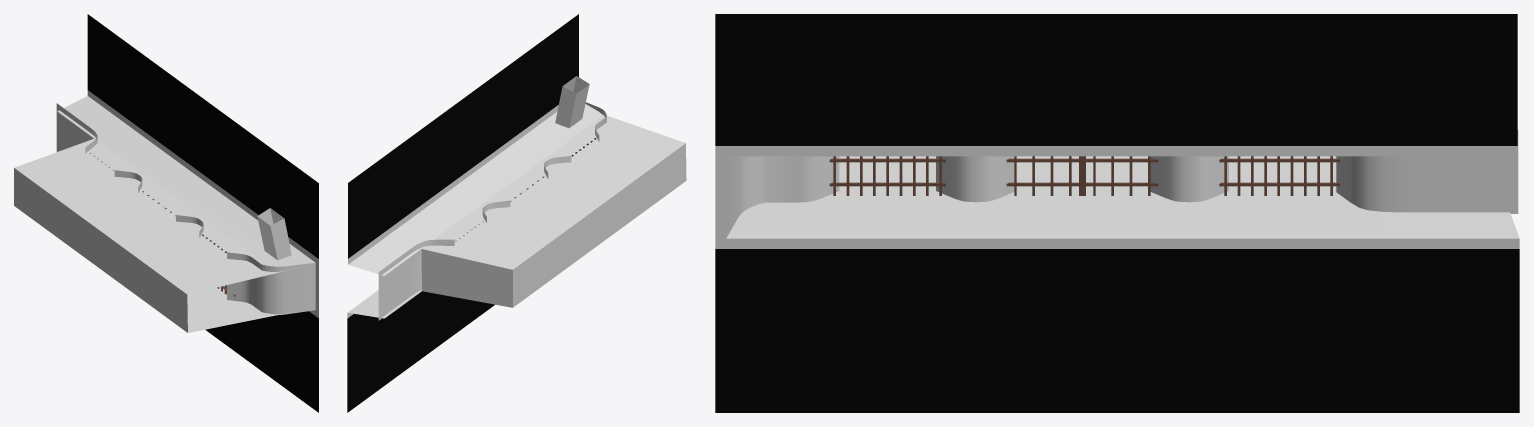
File: Mazmorra_Comp 1.fbx
3 renders of one model, left to right at view 1: azimuth 30°, elevation 25°; view 2: azimuth 150°, elevation 25°; view 3: azimuth 270°, elevation 25°, orthographic. The views are drawn at different scales.
Parts seen in each view (by area): view 1: Estructura; view 2: Estructura; view 3: Estructura.
Boxes of the visible parts, box(x1,y1,x2,y2) form: Estructura: box(14, 14, 318, 412); Estructura: box(347, 14, 686, 412); Estructura: box(715, 14, 1519, 412).
Size of the model in its own units: 2708 by 4984 by 9109.
4 materials, 1 textured.
